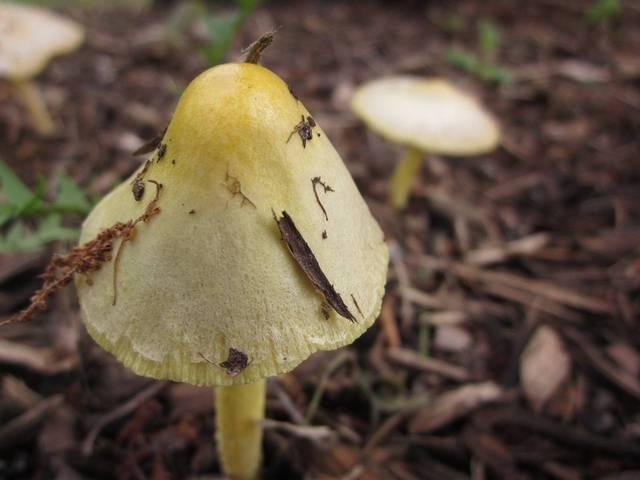edible_mushroom: (69, 36, 390, 479), (349, 73, 501, 209)
